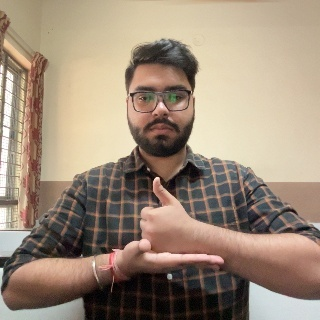Face: (126, 57, 192, 157)
Help: (116, 176, 222, 281)
